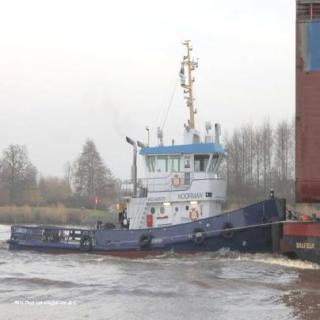Tug Boat: (16, 30, 302, 254)
